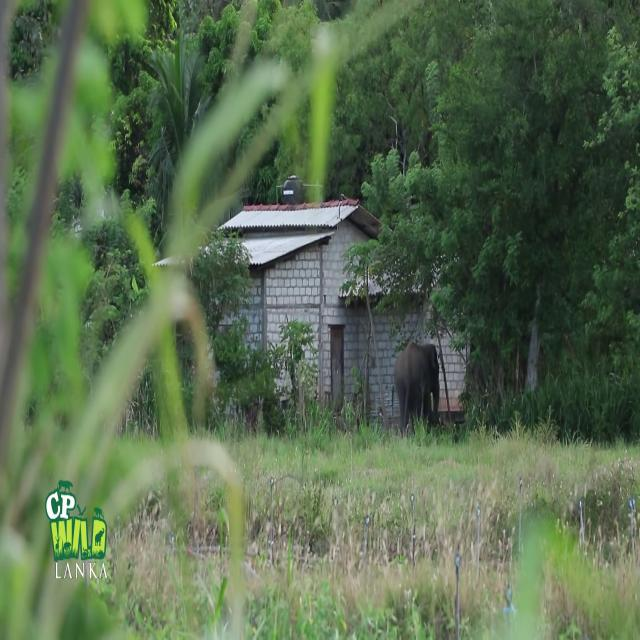Elephant: (394, 340, 439, 437)
